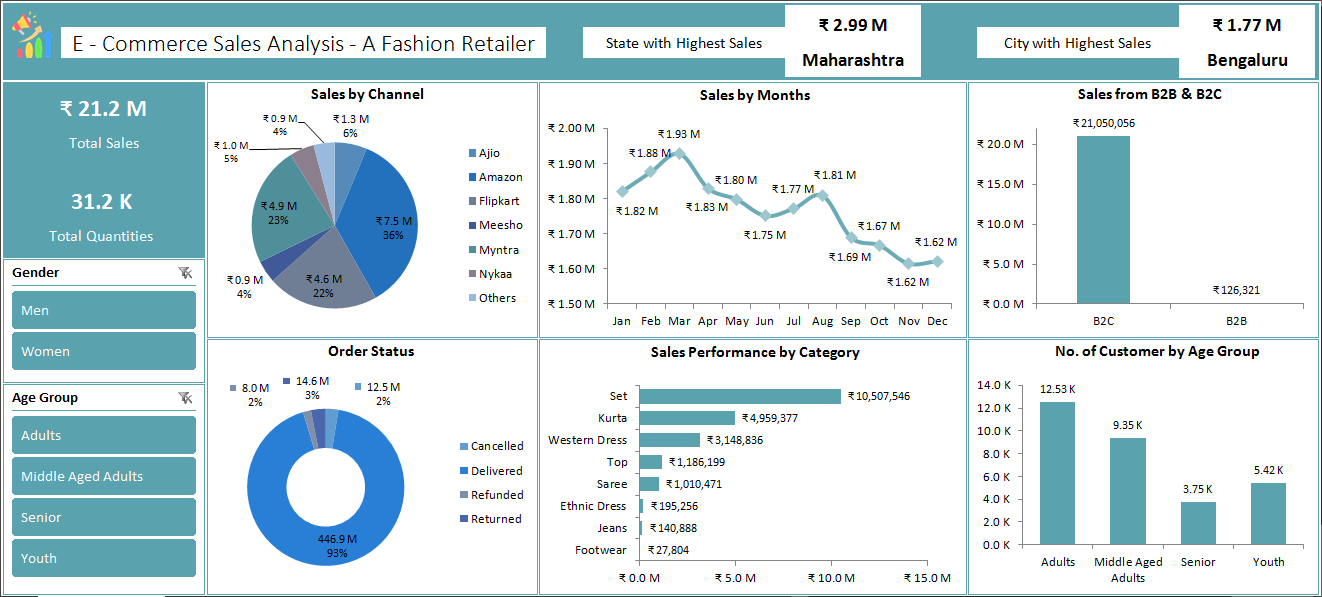

The dashboard page shown, as its layout file describes it:
{"tool":"powerbi","page":{"name":"E - Commerce Sales Analysis - A Fashion Retailer","canvas":[3300,1800],"ordinal":0},"visuals":[{"type":"shape","box":[7.4,7.4,3285.2,284.3],"z":0},{"type":"shape","box":[2889,40.3,385.5,230.1],"z":0,"group":"g4"},{"type":"card","title":"Maharashtra","fields":{"Values":["E - Commerce Sales Analysis - A Fashion Retailer.Highest Selling State"]},"box":[2026.9,46.5,313.5,136.8],"z":0,"group":"g5"},{"type":"group","id":"g1","title":"Group 4","box":[2425.7,35.8,851,230.6],"z":1000},{"type":"textbox","box":[1483.2,111.9,516.8,95.4],"z":1000,"group":"g2"},{"type":"card","title":"Maharashtra","fields":{"Values":["Min(E - Commerce Sales Analysis - A Fashion Retailer.Ship-State)"]},"box":[2030.4,173.1,313.5,86],"z":1000,"group":"g5"},{"type":"card","title":"Maharashtra","fields":{"Values":["E - Commerce Sales Analysis - A Fashion Retailer.Highest Selling City"]},"box":[2909.1,35.8,330.9,146.8],"z":2000,"group":"g4"},{"type":"group","id":"g2","title":"Group 5","box":[1483.2,39.8,894.7,230.6],"z":2000},{"type":"textbox","box":[2425.7,107.4,465.5,95.4],"z":2000,"group":"g1"},{"type":"image","box":[8,63.6,175,139.2],"z":3000},{"type":"card","title":"Maharashtra","fields":{"Values":["Min(E - Commerce Sales Analysis - A Fashion Retailer.Ship-City)"]},"box":[2909.1,154.8,330.9,95.2],"z":3000,"group":"g4"},{"type":"group","id":"g3","title":"Group 2","box":[1995.5,39.8,383.5,230.6],"z":4000,"group":"g2"},{"type":"textbox","box":[182.9,111.3,1212.8,95.4],"z":4000},{"type":"group","id":"g4","title":"Group 3","box":[2889,35.8,385.5,230.6],"z":5000,"group":"g1"},{"type":"shape","box":[7.7,298.1,409.6,601],"z":5000},{"type":"shape","box":[1995.5,39.8,383.5,230.6],"z":5500,"group":"g3"},{"type":"card","fields":{"Values":["E - Commerce Sales Analysis - A Fashion Retailer.Total Sales"]},"box":[28.8,322.1,365.4,246.2],"z":6000},{"type":"card","fields":{"Values":["E - Commerce Sales Analysis - A Fashion Retailer.Total Quantity"]},"box":[28.8,600,365.4,247.1],"z":7000},{"type":"group","id":"g5","title":"Group 1","box":[2026.9,46.5,316.5,215],"z":7500,"group":"g3"},{"type":"pieChart","title":"Sales by Channel ","fields":{"Y":["E - Commerce Sales Analysis - A Fashion Retailer.Total Sales"],"Category":["E - Commerce Sales Analysis - A Fashion Retailer.Channel "]},"box":[421.5,298.2,914.6,755.5],"z":8000},{"type":"lineChart","title":"Sales by Months ","fields":{"Category":["E - Commerce Sales Analysis - A Fashion Retailer.Date.Variation.Date Hierarchy.Month"],"Y":["E - Commerce Sales Analysis - A Fashion Retailer.Total Sales"]},"box":[1340.1,298.2,1173.1,755.5],"z":9000},{"type":"clusteredColumnChart","title":"Sales from B2B & B2C","fields":{"Category":["E - Commerce Sales Analysis - A Fashion Retailer.B2B"],"Y":["E - Commerce Sales Analysis - A Fashion Retailer.Total Sales"]},"box":[2519.4,298.1,773.1,755.6],"z":10000},{"type":"donutChart","title":"Order Status","fields":{"Category":["E - Commerce Sales Analysis - A Fashion Retailer.Status"],"Y":["CountNonNull(E - Commerce Sales Analysis - A Fashion Retailer.Order ID)"]},"box":[421.2,1056.7,915.4,736.5],"z":11000},{"type":"clusteredBarChart","title":"Sales Performance by Category","fields":{"Y":["E - Commerce Sales Analysis - A Fashion Retailer.Total Sales"],"Category":["E - Commerce Sales Analysis - A Fashion Retailer.Category"]},"box":[1340.4,1057.7,1173.1,735.6],"z":12000},{"type":"clusteredColumnChart","title":"No. of Customers by Age Group","fields":{"Y":["CountNonNull(E - Commerce Sales Analysis - A Fashion Retailer.Cust ID)"],"Category":["E - Commerce Sales Analysis - A Fashion Retailer.Age Group"]},"box":[2519.2,1057.7,773.1,735.6],"z":13000},{"type":"slicer","title":"Order Status","fields":{"Values":["E - Commerce Sales Analysis - A Fashion Retailer.Gender"]},"box":[7.7,902.9,409.6,346.2],"z":13001},{"type":"slicer","title":"Order Status","fields":{"Values":["E - Commerce Sales Analysis - A Fashion Retailer.Age Group"]},"box":[7.7,1252.9,409.6,540.4],"z":13002}]}

Visuals, with their boxes on the page's 3300x1800 design canvas (x1, y1, x2, y2). These are canvas units, not pixel positions in the 1322x597 screenshot, which may show the page scaled, cropped or inside an application window:
shape: pyautogui.locateOnScreen(7, 7, 3293, 292)
shape: pyautogui.locateOnScreen(2889, 40, 3274, 270)
"Maharashtra" card: pyautogui.locateOnScreen(2027, 46, 2340, 183)
"Group 4" group: pyautogui.locateOnScreen(2426, 36, 3277, 266)
textbox: pyautogui.locateOnScreen(1483, 112, 2000, 207)
"Maharashtra" card: pyautogui.locateOnScreen(2030, 173, 2344, 259)
"Maharashtra" card: pyautogui.locateOnScreen(2909, 36, 3240, 183)
"Group 5" group: pyautogui.locateOnScreen(1483, 40, 2378, 270)
textbox: pyautogui.locateOnScreen(2426, 107, 2891, 203)
image: pyautogui.locateOnScreen(8, 64, 183, 203)
"Maharashtra" card: pyautogui.locateOnScreen(2909, 155, 3240, 250)
"Group 2" group: pyautogui.locateOnScreen(1996, 40, 2379, 270)
textbox: pyautogui.locateOnScreen(183, 111, 1396, 207)
"Group 3" group: pyautogui.locateOnScreen(2889, 36, 3274, 266)
shape: pyautogui.locateOnScreen(8, 298, 417, 899)
shape: pyautogui.locateOnScreen(1996, 40, 2379, 270)
card - E - Commerce Sales Analysis - A Fashion Retailer.Total Sales: pyautogui.locateOnScreen(29, 322, 394, 568)
card - E - Commerce Sales Analysis - A Fashion Retailer.Total Quantity: pyautogui.locateOnScreen(29, 600, 394, 847)
"Group 1" group: pyautogui.locateOnScreen(2027, 46, 2343, 262)
"Sales by Channel " pieChart: pyautogui.locateOnScreen(422, 298, 1336, 1054)
"Sales by Months " lineChart: pyautogui.locateOnScreen(1340, 298, 2513, 1054)
"Sales from B2B & B2C" clusteredColumnChart: pyautogui.locateOnScreen(2519, 298, 3292, 1054)
"Order Status" donutChart: pyautogui.locateOnScreen(421, 1057, 1337, 1793)
"Sales Performance by Category" clusteredBarChart: pyautogui.locateOnScreen(1340, 1058, 2514, 1793)
"No. of Customers by Age Group" clusteredColumnChart: pyautogui.locateOnScreen(2519, 1058, 3292, 1793)
"Order Status" slicer: pyautogui.locateOnScreen(8, 903, 417, 1249)
"Order Status" slicer: pyautogui.locateOnScreen(8, 1253, 417, 1793)
